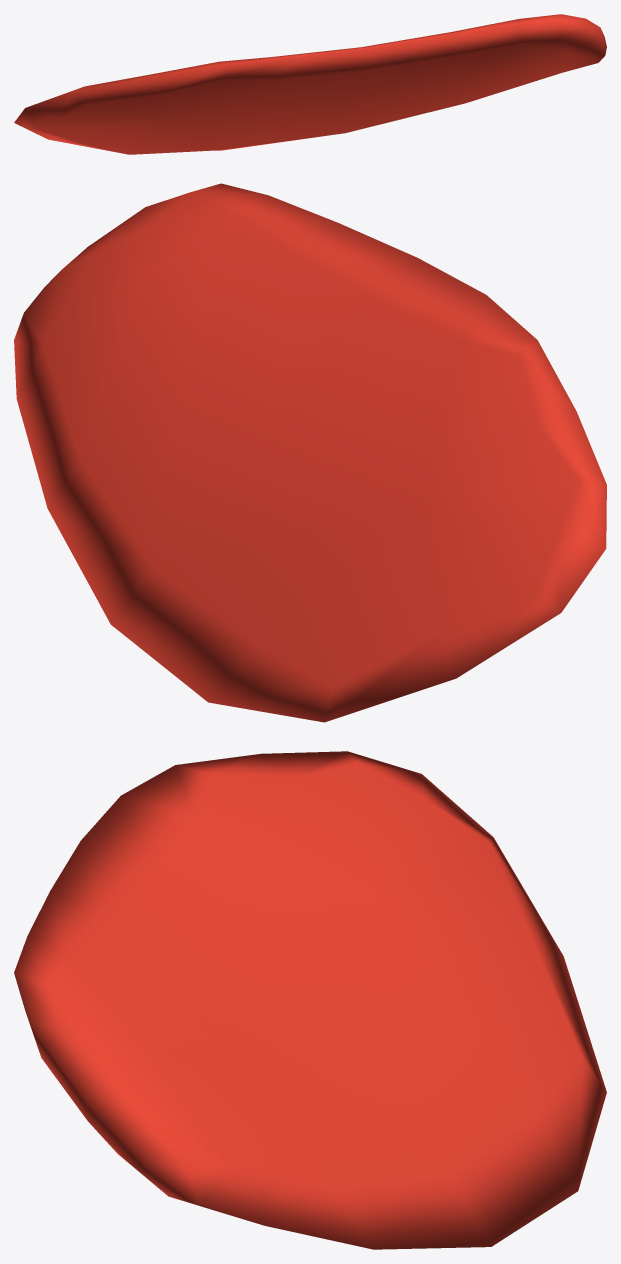
Rendered from Longus_capitis_muscle-Occipital_insertion.r_Generated_Mesh_From.glb.
The picture shows the model from 3 angles, top to bottom: view 1: azimuth 30°, elevation 25°; view 2: azimuth 150°, elevation 25°; view 3: azimuth 270°, elevation 25°; orthographic projection. The views are drawn at different scales.
Visible parts, largest first — view 1: Longus_capitis_muscle-Occipital_insertion.r_Generated_Mesh_F; view 2: Longus_capitis_muscle-Occipital_insertion.r_Generated_Mesh_F; view 3: Longus_capitis_muscle-Occipital_insertion.r_Generated_Mesh_F.
Boxes of the visible parts, x1,y1,x2,y2 form: Longus_capitis_muscle-Occipital_insertion.r_Generated_Mesh_F: (14,14,606,154); Longus_capitis_muscle-Occipital_insertion.r_Generated_Mesh_F: (14,183,606,722); Longus_capitis_muscle-Occipital_insertion.r_Generated_Mesh_F: (14,751,606,1249).
Size of the model in its own units: 0.00767 by 0.00318 by 0.00481.
